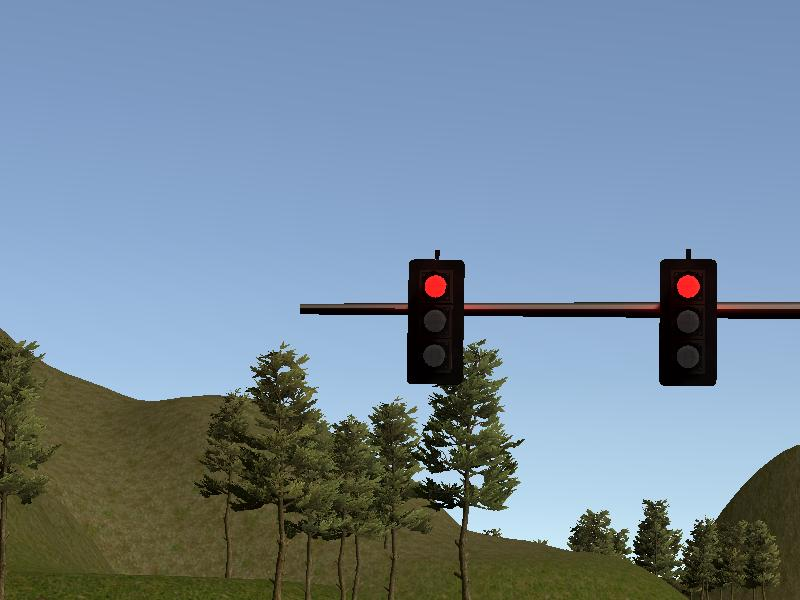Red: (659, 258, 715, 387), (409, 259, 463, 384)
